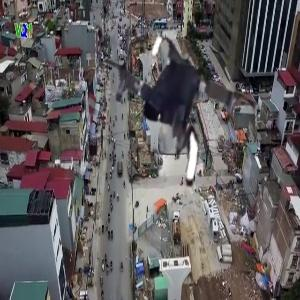drone: (76, 22, 265, 211)
